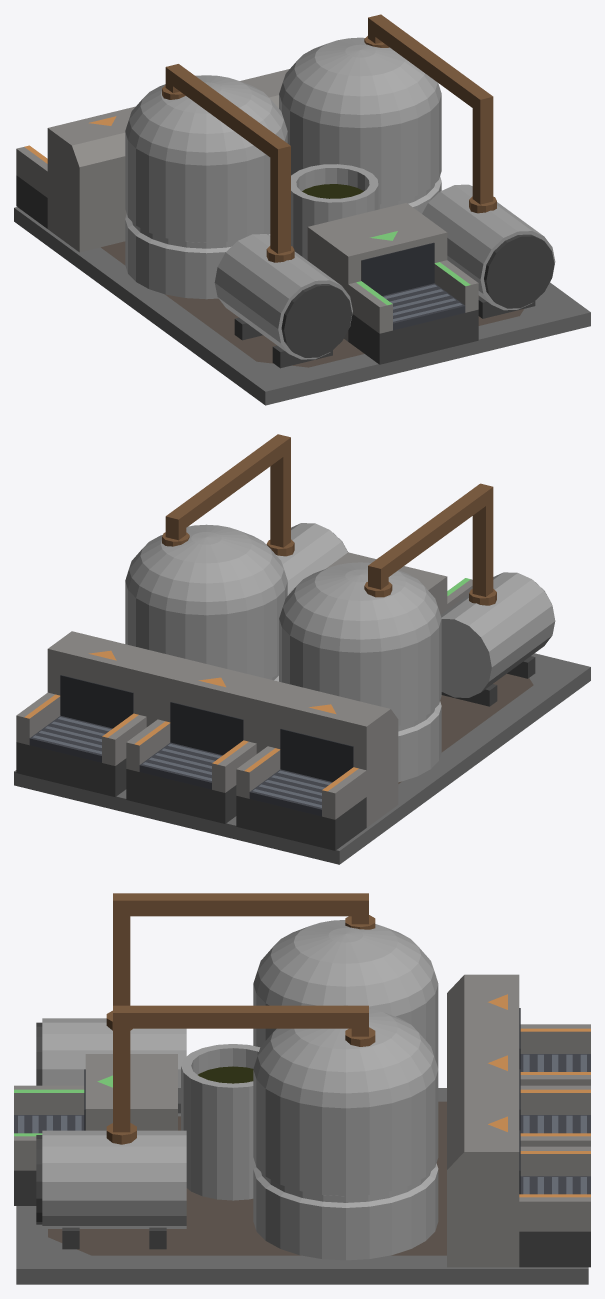
The model's file is vfef_biofuel.obj.
3 views of the same model, one above another, from view 1: azimuth 30°, elevation 25°; view 2: azimuth 150°, elevation 25°; view 3: azimuth 270°, elevation 25° (orthographic). The views are drawn at different scales.
Visible parts, largest first — view 1: vfef_biofuel_28, vfef_biofuel_38, vfef_biofuel_0, vfef_biofuel_2, vfef_biofuel_29, vfef_biofuel_50, vfef_biofuel_39, vfef_biofuel_48, vfef_biofuel_52, vfef_biofuel_40, vfef_biofuel_30, vfef_biofuel_1 (+13 smaller); view 2: vfef_biofuel_28, vfef_biofuel_2, vfef_biofuel_38, vfef_biofuel_0, vfef_biofuel_29, vfef_biofuel_4, vfef_biofuel_12, vfef_biofuel_20, vfef_biofuel_46, vfef_biofuel_36, vfef_biofuel_27, vfef_biofuel_19 (+18 smaller); view 3: vfef_biofuel_38, vfef_biofuel_2, vfef_biofuel_0, vfef_biofuel_28, vfef_biofuel_39, vfef_biofuel_48, vfef_biofuel_1, vfef_biofuel_36, vfef_biofuel_46, vfef_biofuel_50, vfef_biofuel_29, vfef_biofuel_20 (+22 smaller).
Boxes of the visible parts, x1,y1,x2,y2 form: vfef_biofuel_28: (125,75,287,299); vfef_biofuel_38: (279,37,441,213); vfef_biofuel_0: (14,207,590,405); vfef_biofuel_2: (47,69,289,252); vfef_biofuel_29: (214,234,352,359); vfef_biofuel_50: (307,203,447,341); vfef_biofuel_39: (422,184,555,310); vfef_biofuel_48: (291,164,378,260); vfef_biofuel_52: (348,309,478,364); vfef_biofuel_40: (484,234,554,308); vfef_biofuel_30: (281,284,352,357); vfef_biofuel_1: (101,241,523,367); vfef_biofuel_28: (279,562,441,782); vfef_biofuel_2: (47,631,398,827); vfef_biofuel_38: (125,524,287,681); vfef_biofuel_0: (14,653,590,864); vfef_biofuel_29: (440,572,555,697); vfef_biofuel_4: (236,796,366,850); vfef_biofuel_12: (126,769,236,823); vfef_biofuel_20: (16,742,126,796); vfef_biofuel_46: (165,435,290,533); vfef_biofuel_36: (368,484,492,582); vfef_biofuel_27: (60,675,133,728); vfef_biofuel_19: (170,702,243,755); vfef_biofuel_38: (253,1005,438,1260); vfef_biofuel_2: (447,974,519,1267); vfef_biofuel_0: (16,1088,588,1284); vfef_biofuel_28: (253,920,438,1067); vfef_biofuel_39: (42,1130,186,1228); vfef_biofuel_48: (181,1044,260,1200); vfef_biofuel_1: (48,1101,446,1255); vfef_biofuel_36: (113,893,368,916); vfef_biofuel_46: (113,1005,368,1028); vfef_biofuel_50: (85,1054,177,1130); vfef_biofuel_29: (42,1018,186,1116); vfef_biofuel_20: (519,1231,590,1267).
Size of the model in its own units: 2.96 by 1.84 by 3.99.
